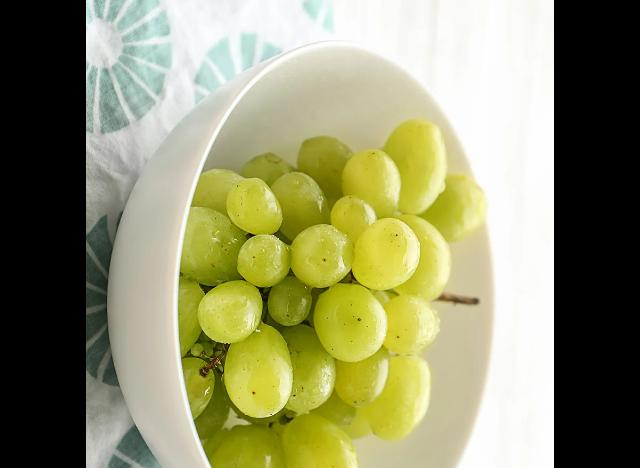Grapes: (176, 119, 486, 468)
